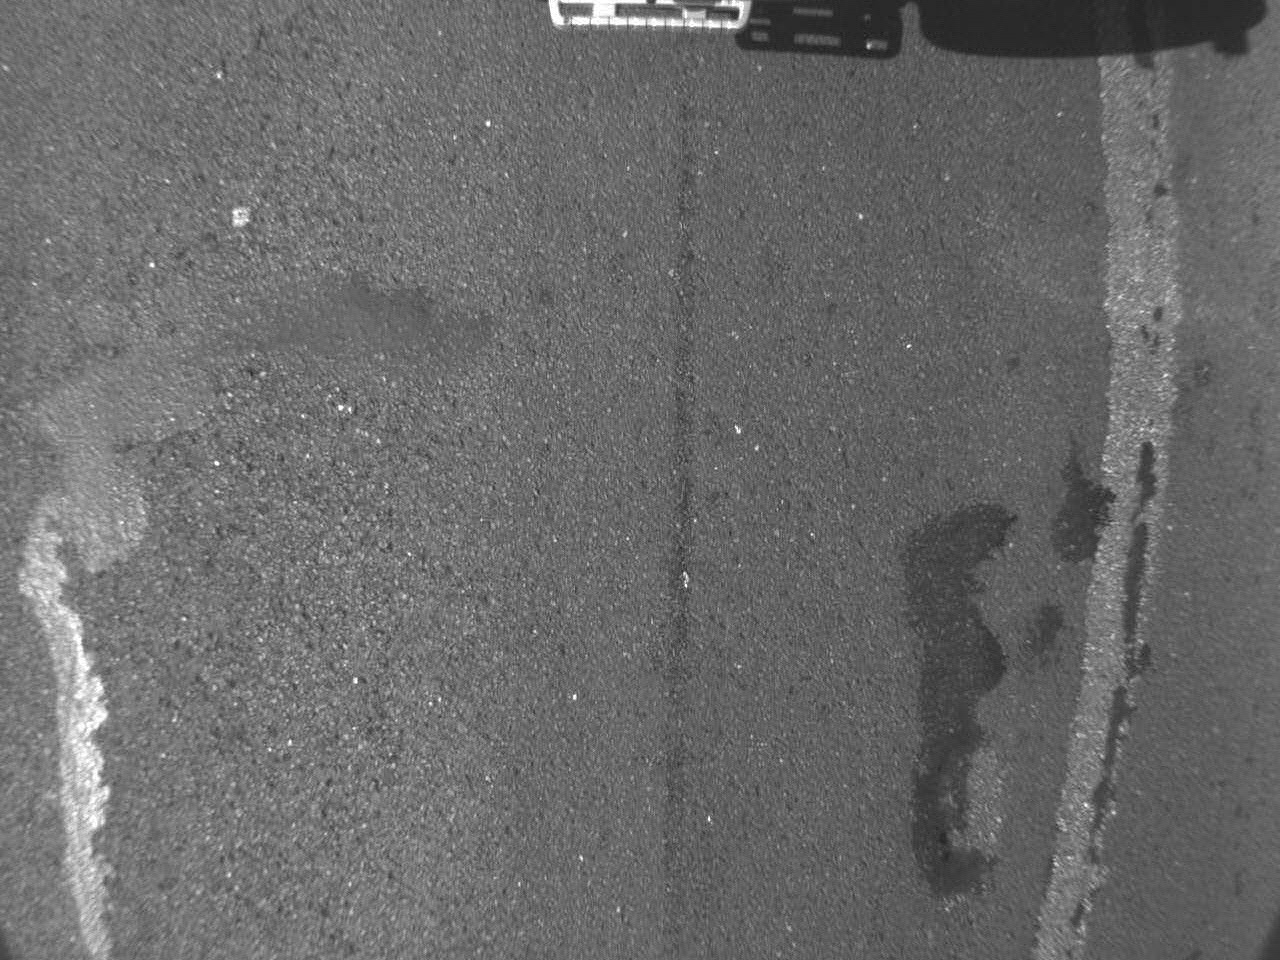sealed: (906, 497, 1022, 899)
